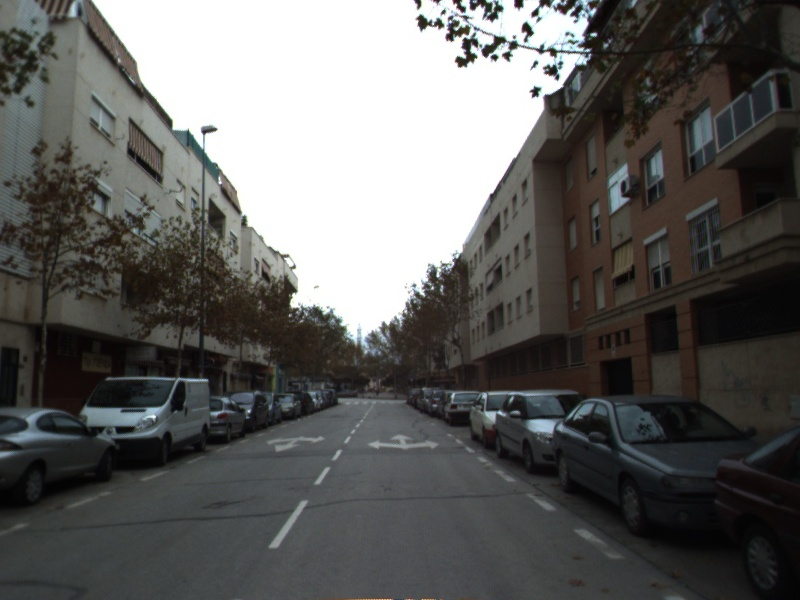STRAIGHT_LEFT_RIGHT: (366, 432, 443, 451)
